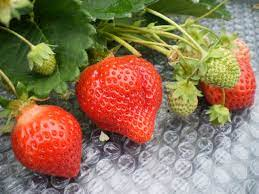ripe: (77, 53, 162, 147), (10, 96, 85, 186), (208, 39, 258, 116)
unripe: (198, 45, 237, 88), (166, 80, 200, 123), (27, 43, 57, 76)
